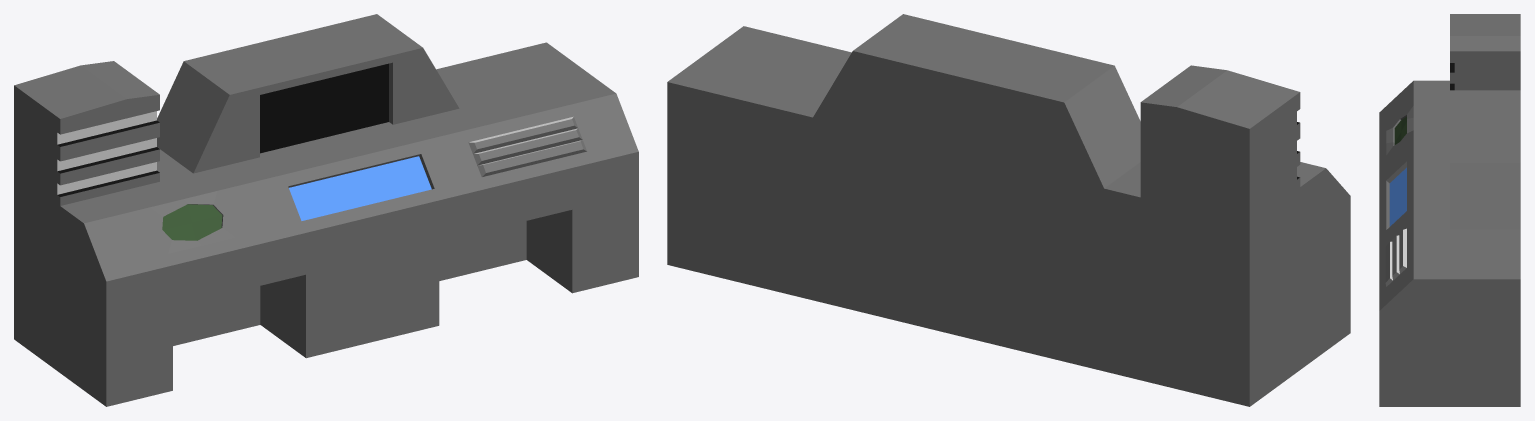
Rendered from Props_ControlRoom_BigPanel.fbx.
3 renders of one model, left to right at view 1: azimuth 30°, elevation 25°; view 2: azimuth 150°, elevation 25°; view 3: azimuth 270°, elevation 25°, orthographic. The views are drawn at different scales.
Parts seen in each view (by area): view 1: Cube; view 2: Cube; view 3: Cube.
Boxes of the visible parts, <box> form: Cube: <box>14,14,638,406</box>; Cube: <box>667,14,1350,406</box>; Cube: <box>1379,14,1520,406</box>.
Bounding box in the file's own units: 2000 × 925 × 600.
